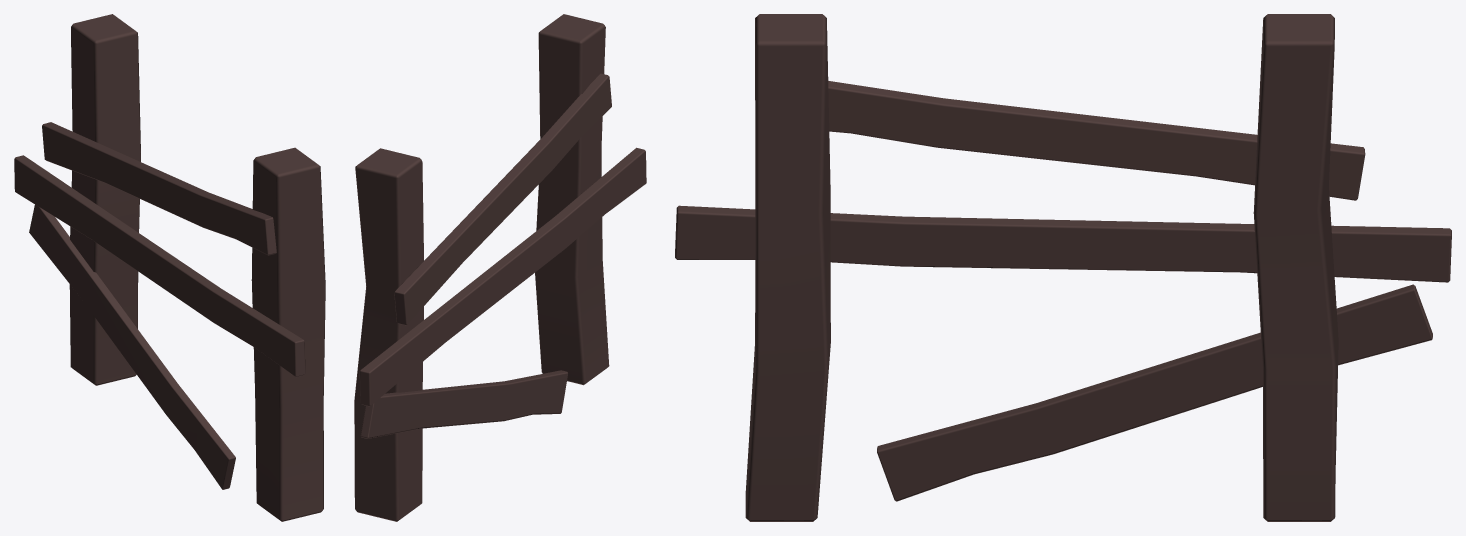
File: Fence.fbx
3 views of the same model, side by side, from view 1: azimuth 30°, elevation 25°; view 2: azimuth 150°, elevation 25°; view 3: azimuth 270°, elevation 25° (orthographic). The views are drawn at different scales.
Parts seen in each view (by area): view 1: Cube.002, Cube.001, Cube.003, Cube.004, Cube; view 2: Cube.002, Cube.001, Cube.003, Cube, Cube.004; view 3: Cube.001, Cube.002, Cube.003, Cube.004, Cube.
Boxes of the visible parts, bbox=[...] form: Cube.002: bbox=[251, 147, 325, 521]; Cube.001: bbox=[69, 14, 140, 385]; Cube.003: bbox=[14, 155, 305, 376]; Cube.004: bbox=[29, 204, 235, 489]; Cube: bbox=[42, 122, 276, 255]; Cube.002: bbox=[535, 14, 609, 385]; Cube.001: bbox=[354, 148, 423, 521]; Cube.003: bbox=[359, 147, 646, 406]; Cube: bbox=[394, 73, 611, 325]; Cube.004: bbox=[360, 370, 567, 438]; Cube.001: bbox=[1253, 14, 1338, 521]; Cube.002: bbox=[745, 14, 830, 521]; Cube.003: bbox=[675, 205, 1451, 282]; Cube.004: bbox=[877, 284, 1432, 501]; Cube: bbox=[828, 81, 1365, 200].
Bounding box in the file's own units: 121 × 606 × 874.
